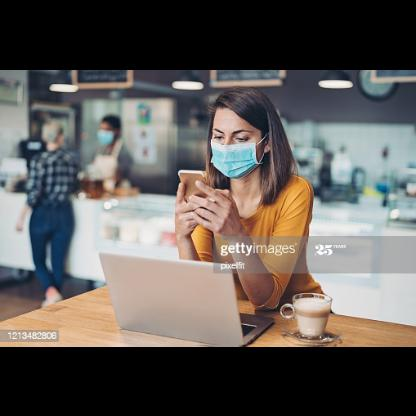Surgical Mask: (208, 120, 266, 176)
